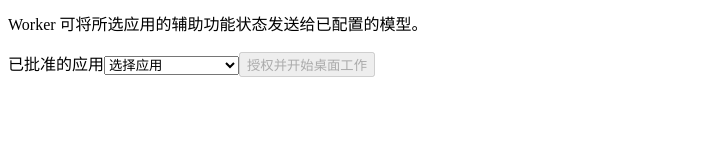
explicit Linux desktop target disclosure › keeps Linux unavailable and legacy macOS selectable in zh
Later steps or results of the test are not shown.
Select "linux:chromium" in the dropdown labelled "已批准的应用": [172, 66] box [104,56,239,75]
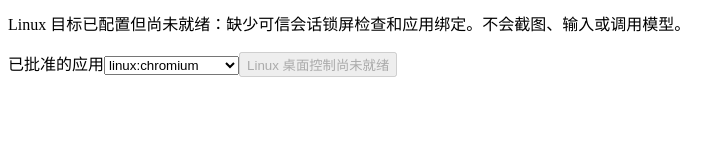
Check: the message "Linux 目标已配置但尚未就绪：缺少可信会话锁屏检查和应用绑定。不会截图、输入或调用模型。" is shown, box [8,16,690,33]
Check: the button "Linux 桌面控制尚未就绪" is shown
Click the button "Linux 桌面控制尚未就绪": [318, 64] box [239,52,397,77]
Check: the text "Worker 可将所选应用的辅助功能状态发送给已配置的模型。" is not shown
Select "com.apple.TextEdit" in the dropdown labelled "已批准的应用": [172, 66] box [104,56,239,75]
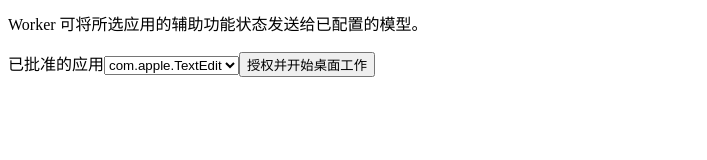
Check: the button "授权并开始桌面工作" is enabled, box [239,52,375,77]
